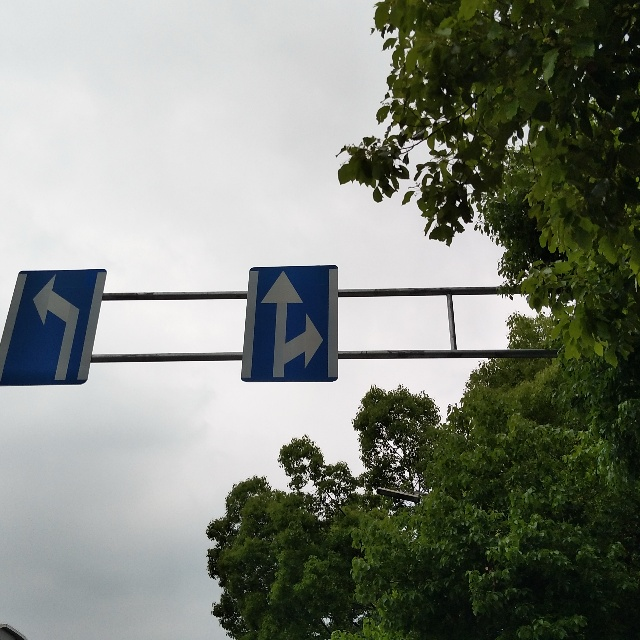left: (23, 273, 84, 383)
